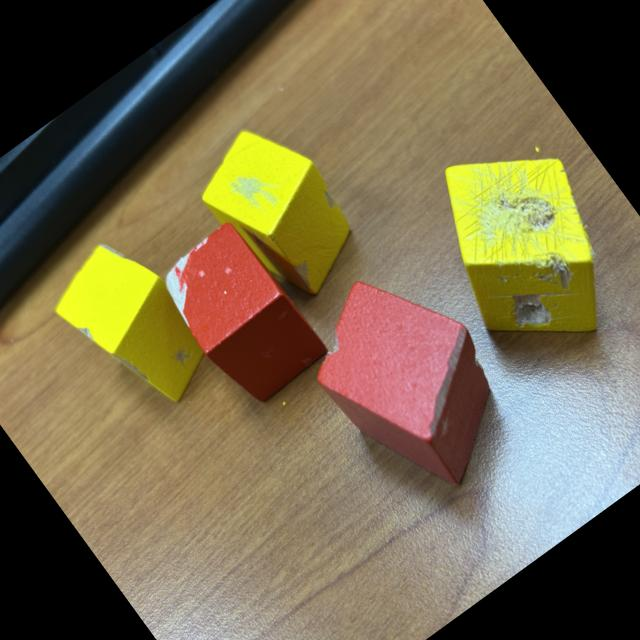broken: (284, 244, 540, 516), (394, 108, 640, 382), (180, 105, 378, 317), (38, 225, 228, 430), (148, 216, 332, 414)
